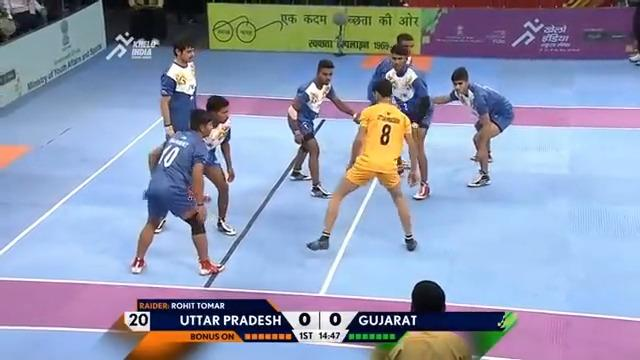Player: (129, 108, 225, 276), (366, 39, 433, 199), (286, 58, 359, 198), (430, 66, 514, 187), (157, 37, 201, 139)
Raider: (306, 77, 421, 255)
referee: (370, 279, 473, 359)
